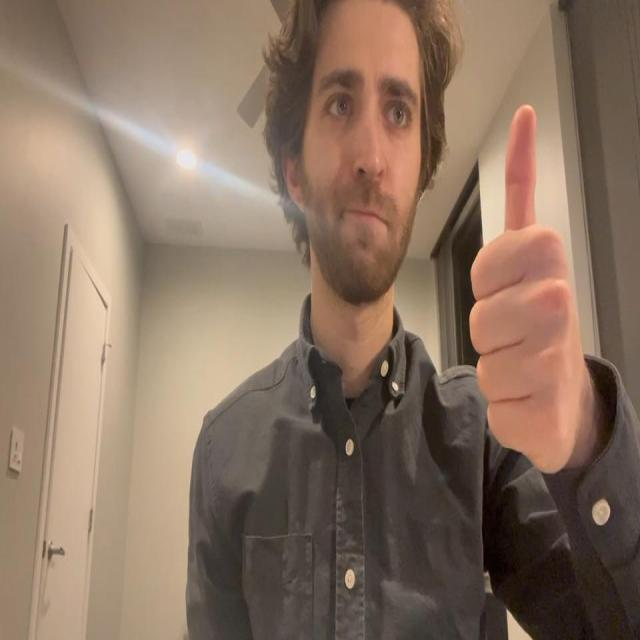face: (305, 26, 424, 306)
